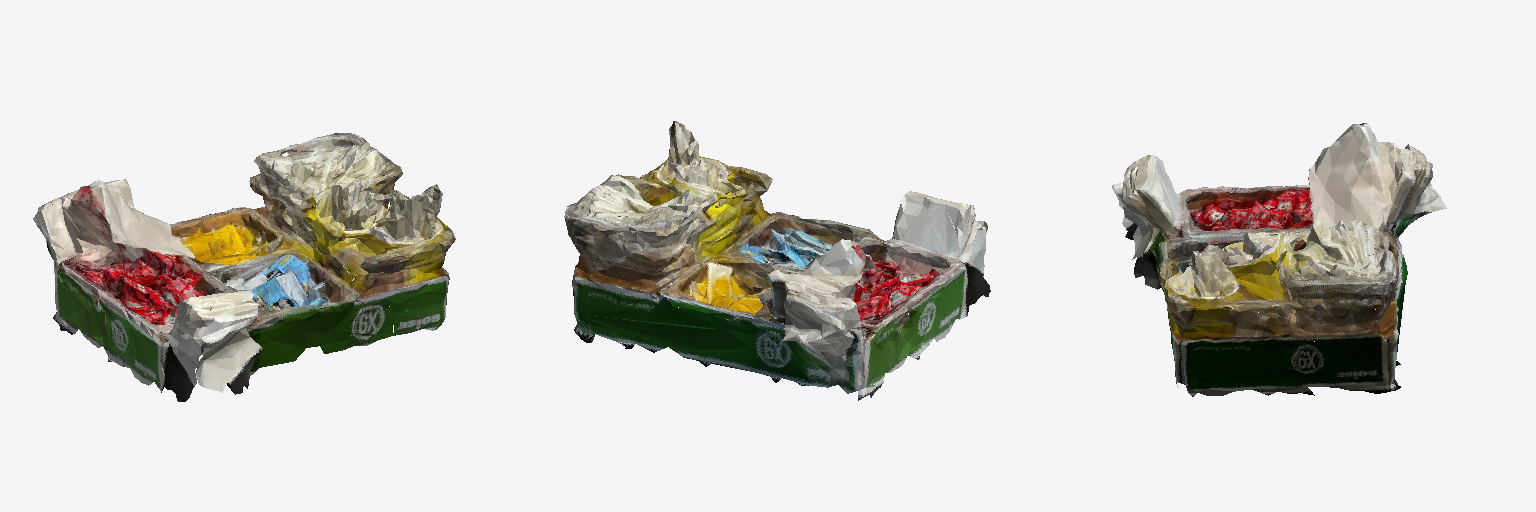
The picture shows the model from 3 angles: view 1: azimuth 30°, elevation 25°; view 2: azimuth 150°, elevation 25°; view 3: azimuth 270°, elevation 25°; orthographic projection.
Parts seen in each view (by area): view 1: poly; view 2: poly; view 3: poly.
Part boxes in pixels (x1,y1,x2,y2): poly: (33, 133, 455, 401); poly: (564, 121, 990, 400); poly: (1112, 123, 1446, 396).
Size of the model in its own units: 0.3877 by 0.1761 by 0.363.
Materials: 1 (1 with a texture image).